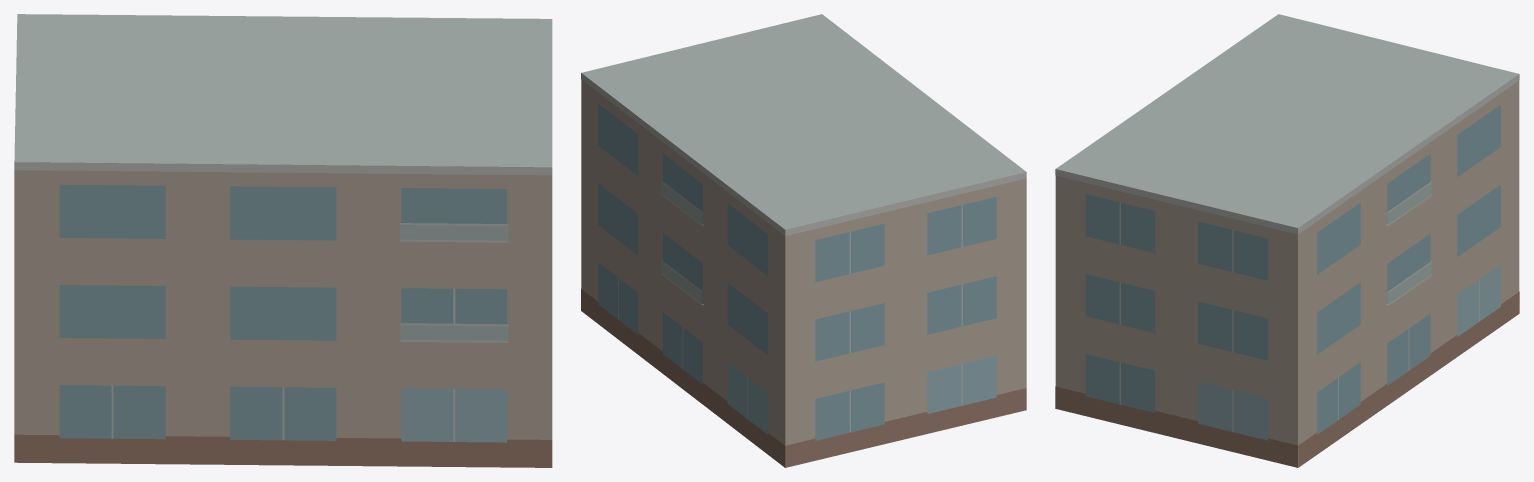
File: survey-upis-32990048.glb
3 renders of one model, left to right at view 1: azimuth 30°, elevation 25°; view 2: azimuth 150°, elevation 25°; view 3: azimuth 270°, elevation 25°, orthographic. The views are drawn at different scales.
Visible parts, largest first — view 1: survey-upis-32990048.tmp; view 2: survey-upis-32990048.tmp; view 3: survey-upis-32990048.tmp.
Part boxes in pixels (box(x1,y1,x2,y2)): survey-upis-32990048.tmp: box(14, 14, 552, 467); survey-upis-32990048.tmp: box(581, 14, 1026, 467); survey-upis-32990048.tmp: box(1055, 14, 1519, 467).
Size of the model in its own units: 17.54 by 9.15 by 16.06.
